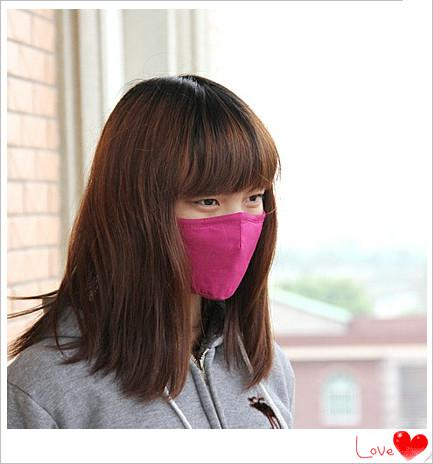OK: (169, 175, 279, 285)
